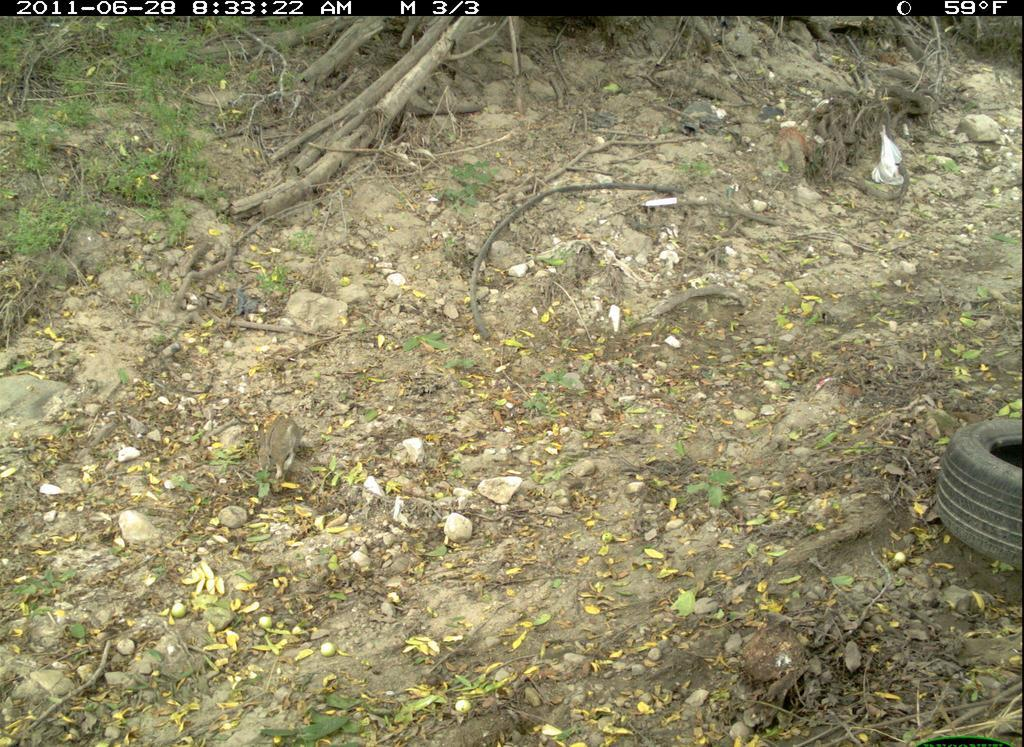rabbit: (244, 401, 313, 492)
